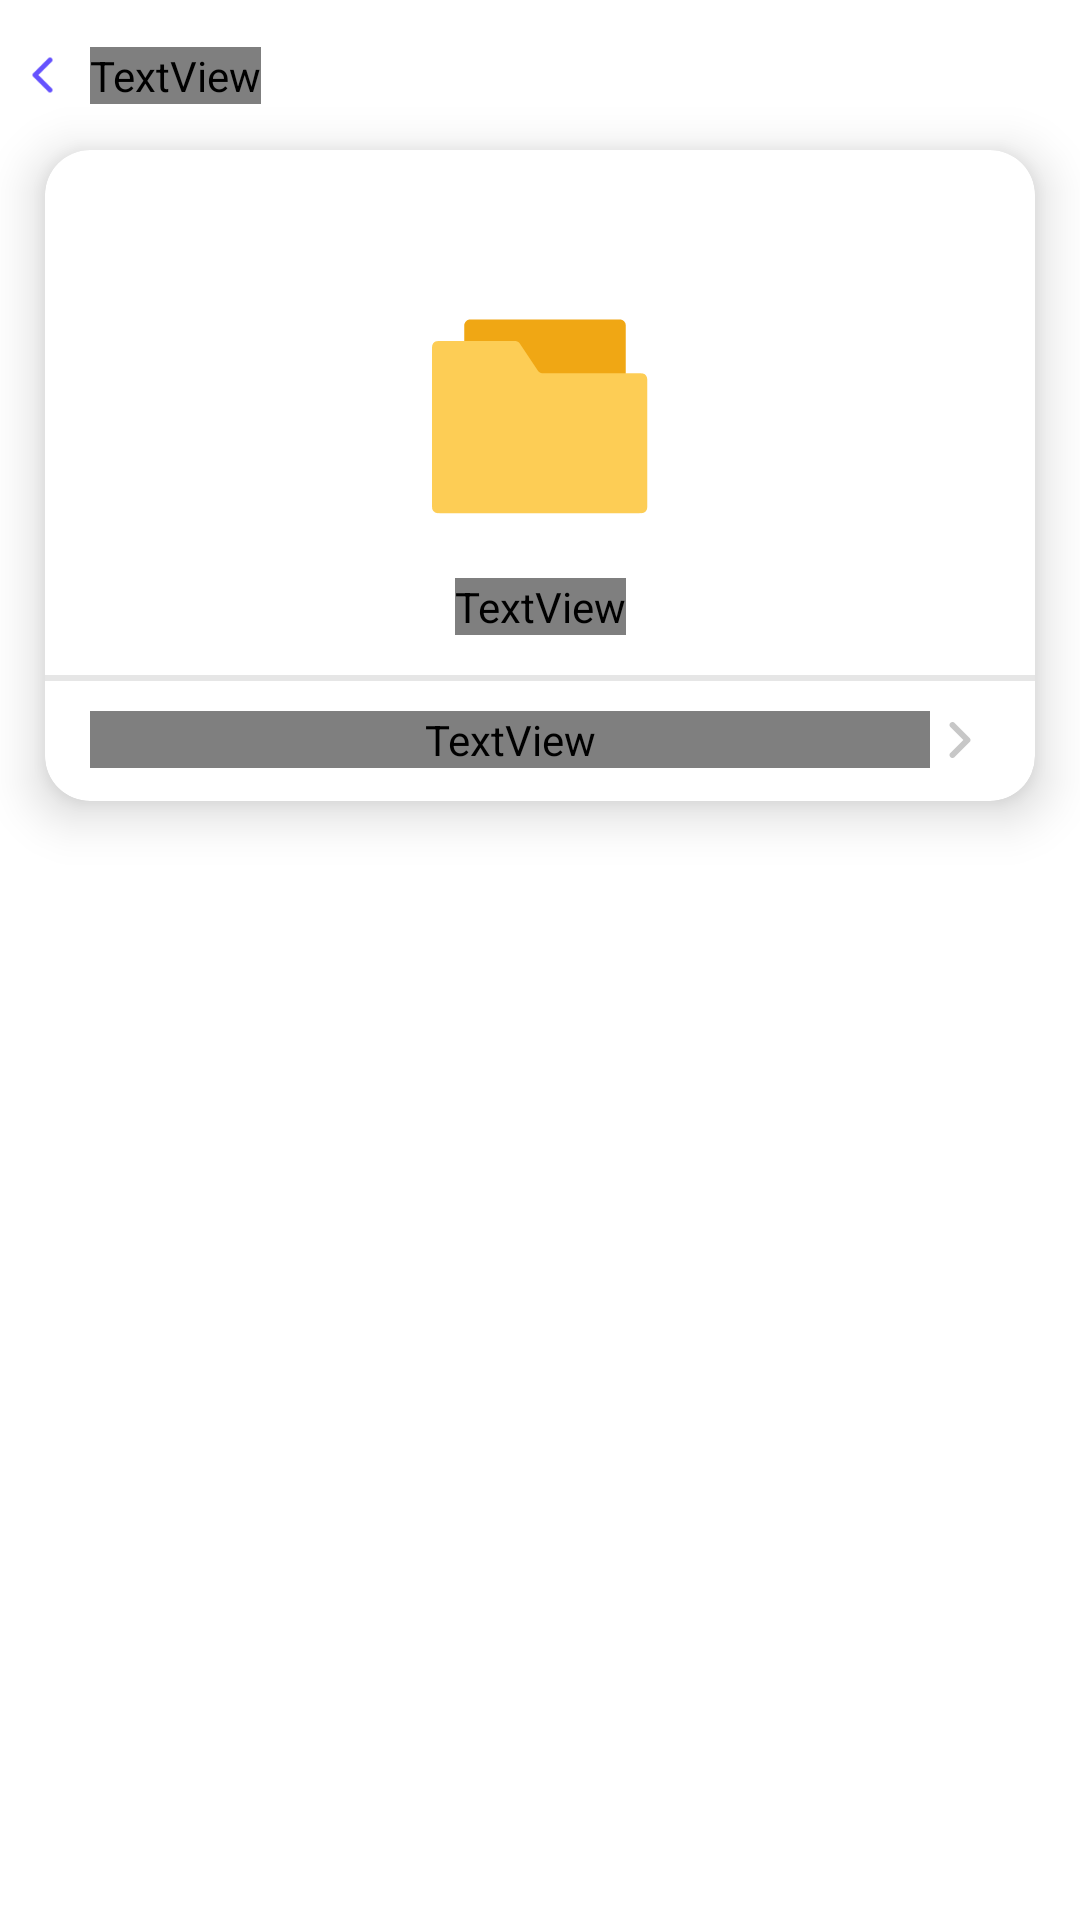

Where icons sit on this 1080 x 1920 app screen, as (x1, y1, x2, y2):
back: (32, 57, 53, 93)
chevron right: (949, 722, 971, 758)
